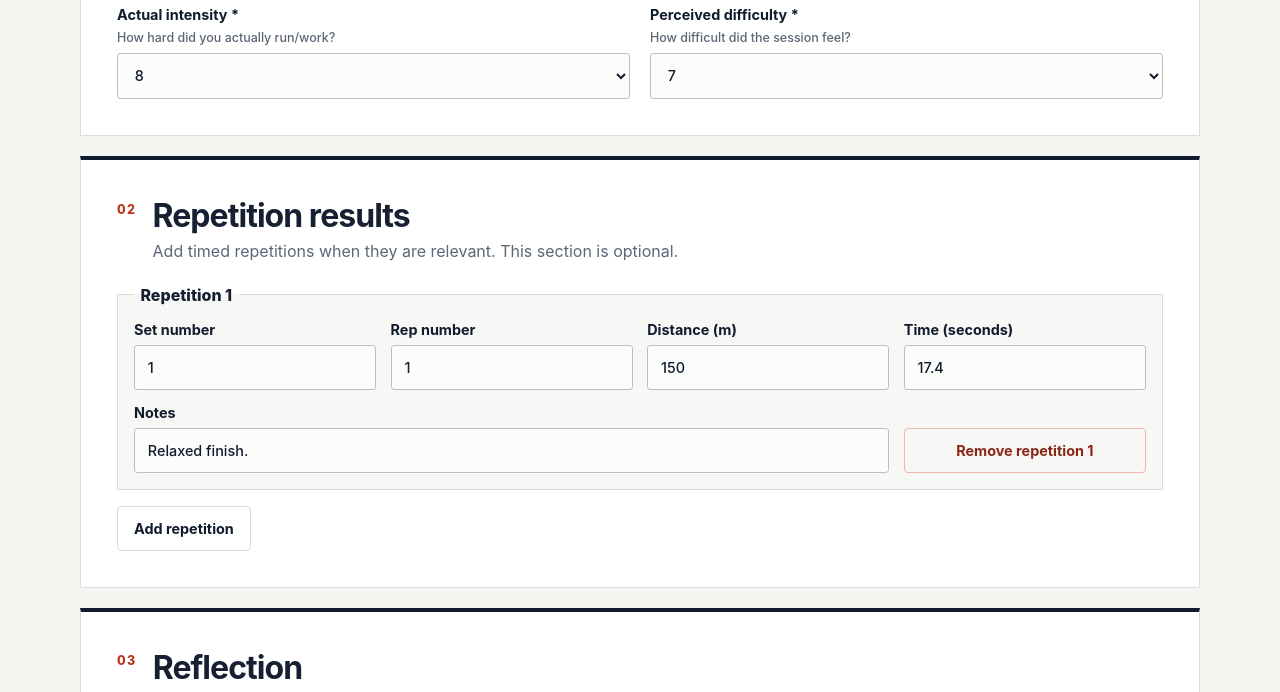
Test: session completion and reflection › removes a repetition row
The image size is (1280, 692).
(page scrolled)
Click the button "Remove repetition 1" at (1025, 450), box x1=904 y1=428 x2=1146 y2=473
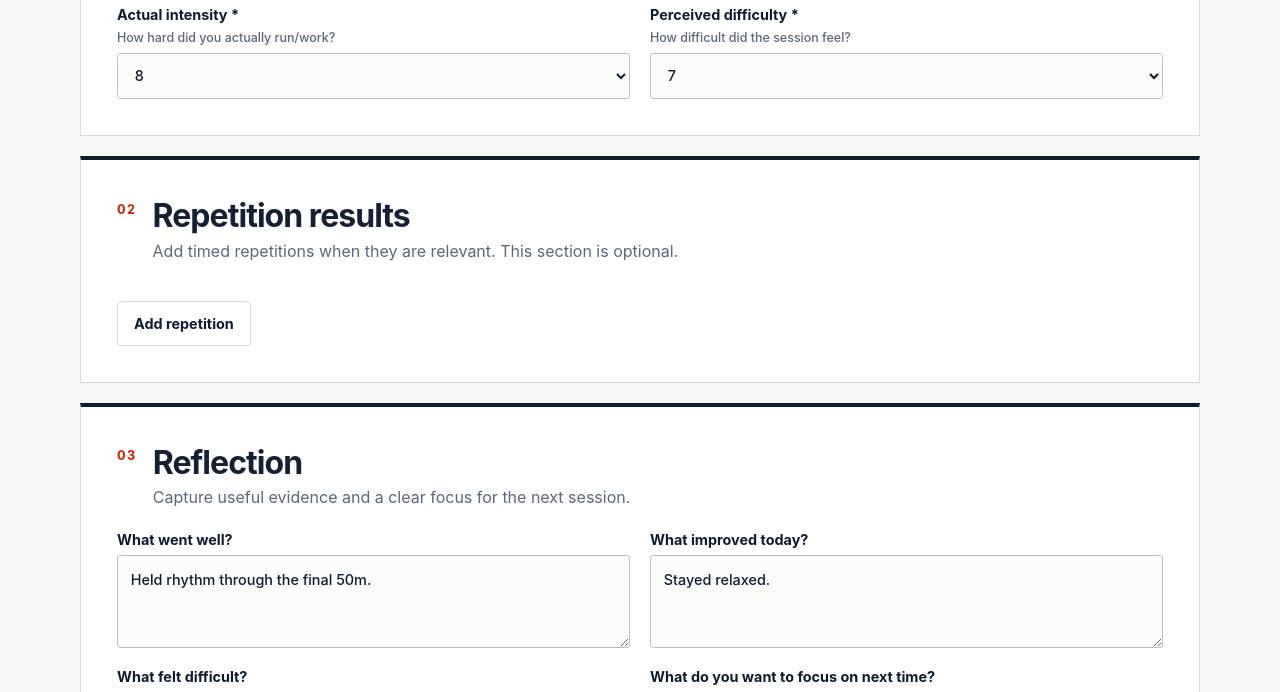
Now the text "Repetition 1" is gone
